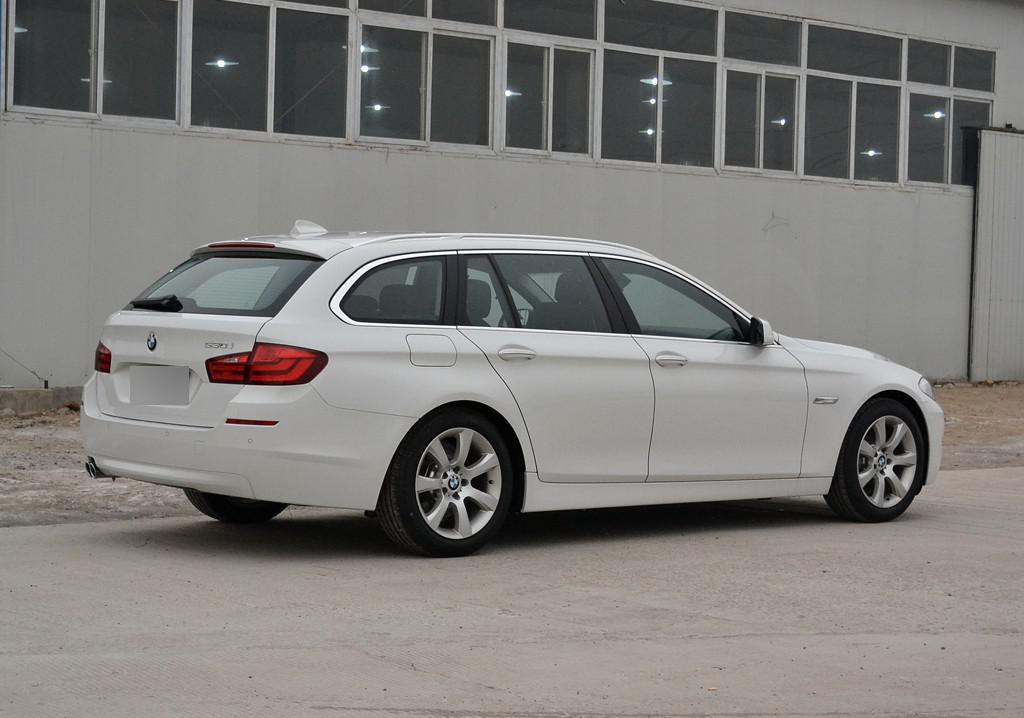Wagon: (77, 216, 945, 559)
